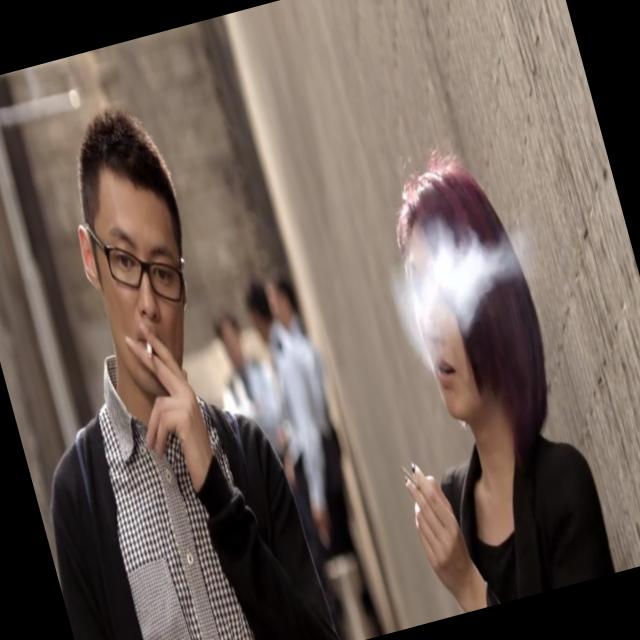smoke: (398, 462, 418, 492), (140, 334, 156, 363)
